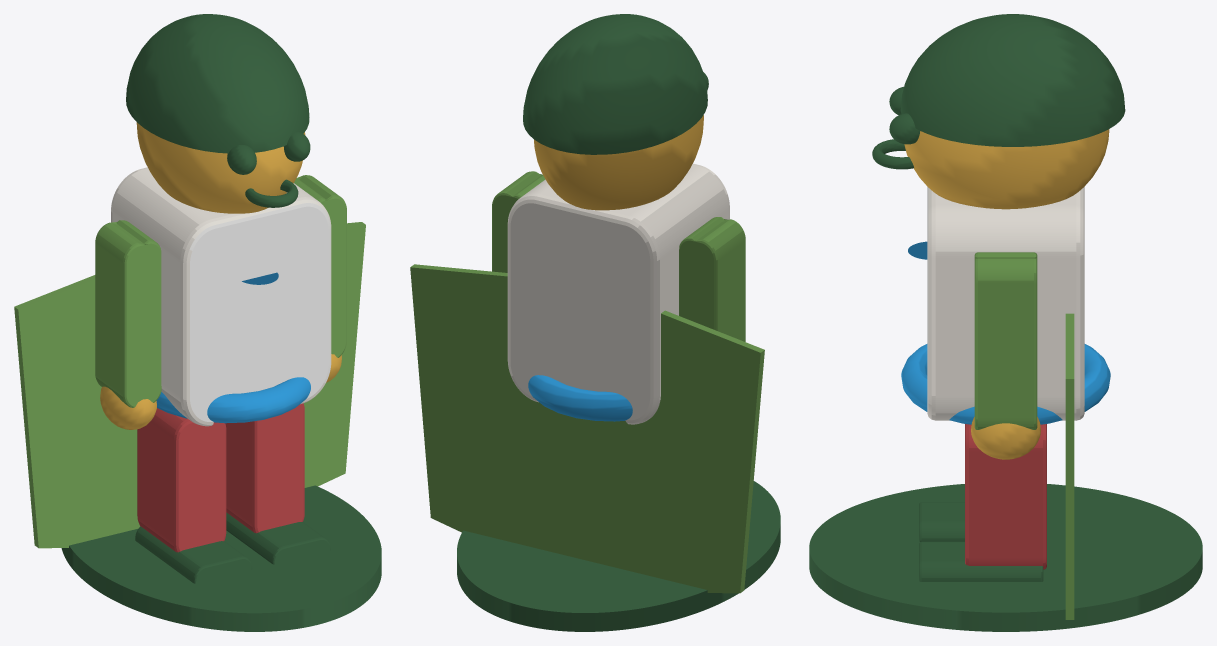
File: 1188_唐图鉴_阿倍仲麻吕.glb
3 views of the same model, side by side, from view 1: azimuth 30°, elevation 25°; view 2: azimuth 150°, elevation 25°; view 3: azimuth 270°, elevation 25° (orthographic). The views are drawn at different scales.
Parts seen in each view (by area): view 1: card_1188; view 2: card_1188; view 3: card_1188.
Part boxes in pixels (box(x1,y1,x2,y2)): card_1188: box(14, 14, 381, 631); card_1188: box(410, 14, 780, 631); card_1188: box(809, 14, 1202, 631).
Size of the model in its own units: 0.6739 by 1 by 0.6398.
